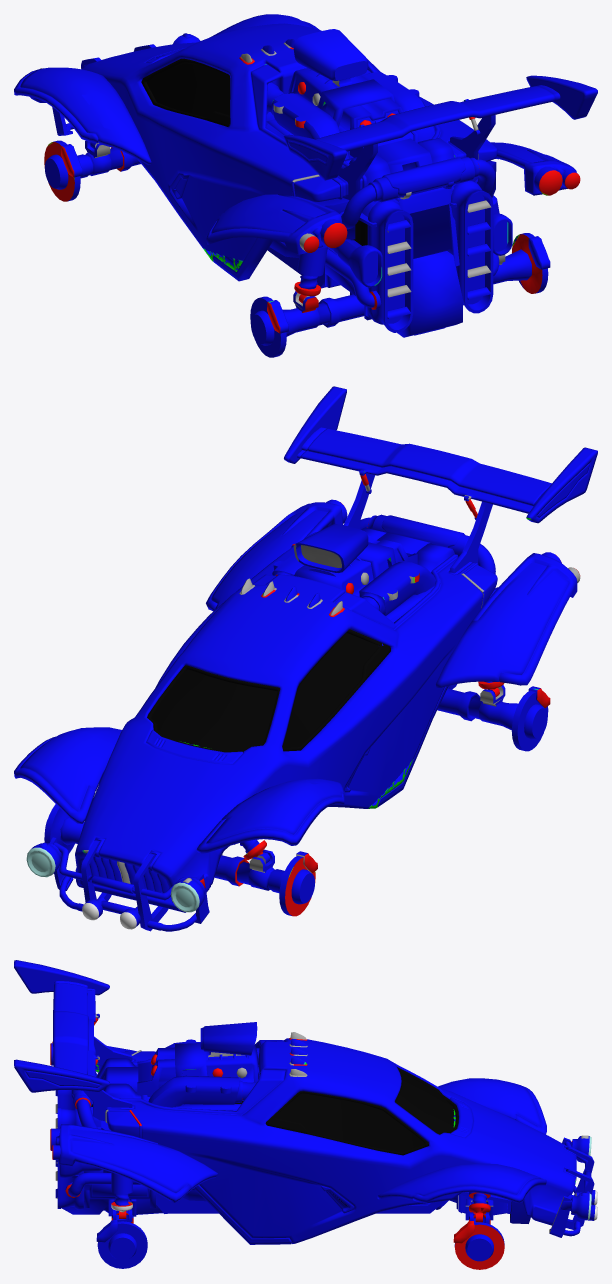
File: car.FBX
The picture shows the model from 3 angles, top to bottom: view 1: azimuth 30°, elevation 25°; view 2: azimuth 150°, elevation 25°; view 3: azimuth 270°, elevation 25°; orthographic projection. The views are drawn at different scales.
Parts seen in each view (by area): view 1: Body_Octane_PremiumSkin_SK; view 2: Body_Octane_PremiumSkin_SK; view 3: Body_Octane_PremiumSkin_SK.
Boxes of the visible parts, left/top/right/bottom form: Body_Octane_PremiumSkin_SK: left=14, top=14, right=597, bottom=357; Body_Octane_PremiumSkin_SK: left=14, top=386, right=597, bottom=931; Body_Octane_PremiumSkin_SK: left=14, top=960, right=597, bottom=1269.
Size of the model in its own units: 1.68 by 3.24 by 1.28.
